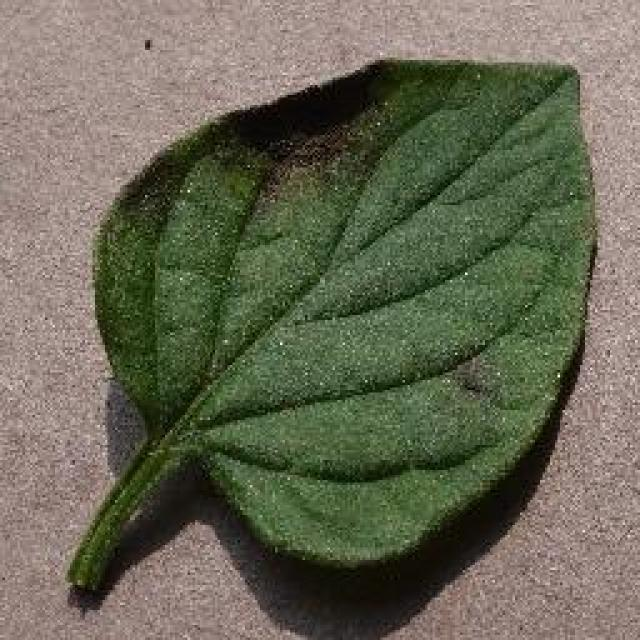Tomato Late Blight: (238, 97, 530, 415)
